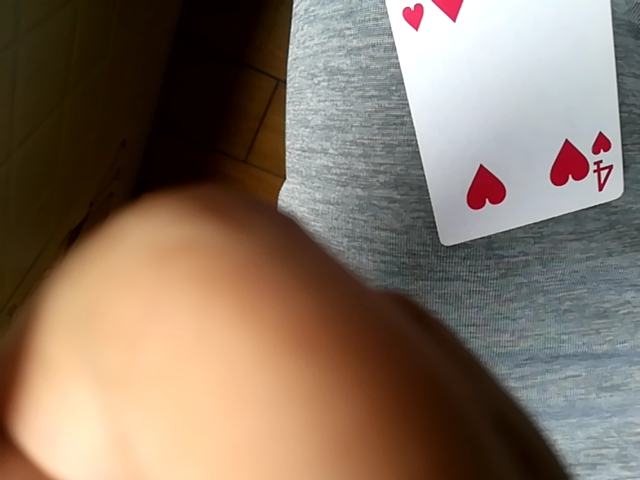hx 4: (384, 0, 628, 245)
